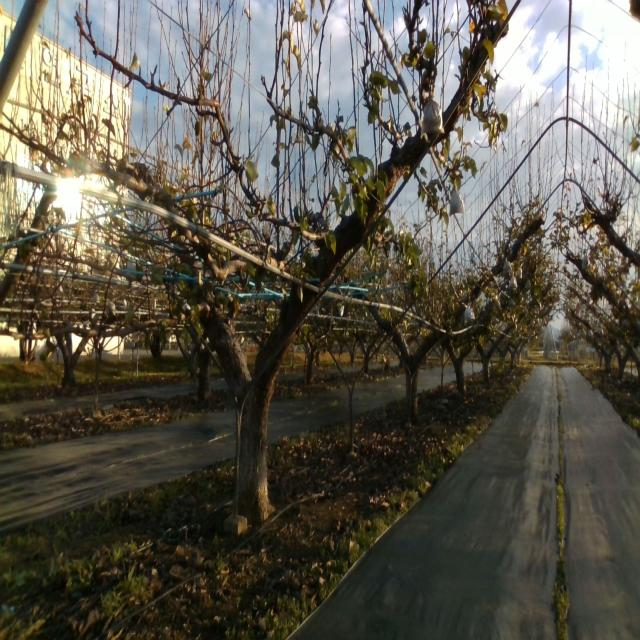pearbags: (420, 99, 446, 140), (448, 183, 466, 218), (464, 302, 475, 326), (508, 272, 518, 290), (503, 257, 512, 276)
